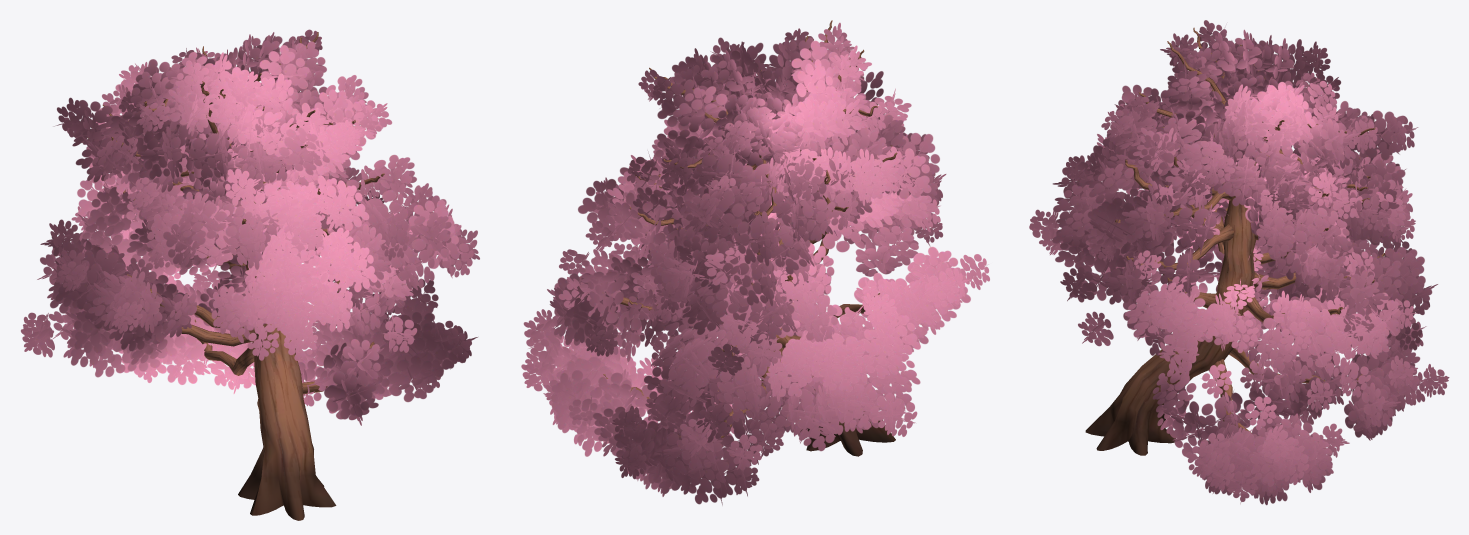
Rendered from tree-wedding-4-mature.glb.
3 views of the same model, side by side, from view 1: azimuth 30°, elevation 25°; view 2: azimuth 150°, elevation 25°; view 3: azimuth 270°, elevation 25° (orthographic). The views are drawn at different scales.
Visible parts, largest first — view 1: CherryBlossom_4; view 2: CherryBlossom_4; view 3: CherryBlossom_4.
Boxes of the visible parts, left/top/right/bottom form: CherryBlossom_4: left=20, top=29, right=479, bottom=520; CherryBlossom_4: left=521, top=20, right=989, bottom=505; CherryBlossom_4: left=1029, top=20, right=1449, bottom=505.
Bounding box in the file's own units: 6.39 × 6.4 × 6.01.
2 materials, 2 textured.
